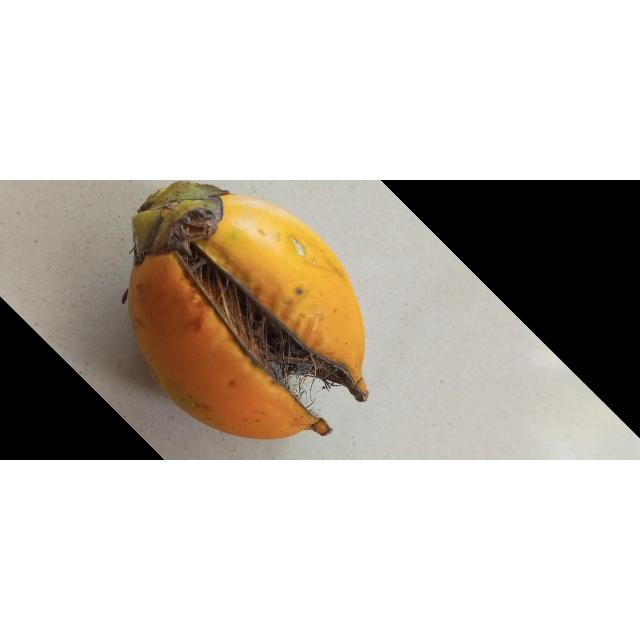damaged: (127, 183, 369, 441)
